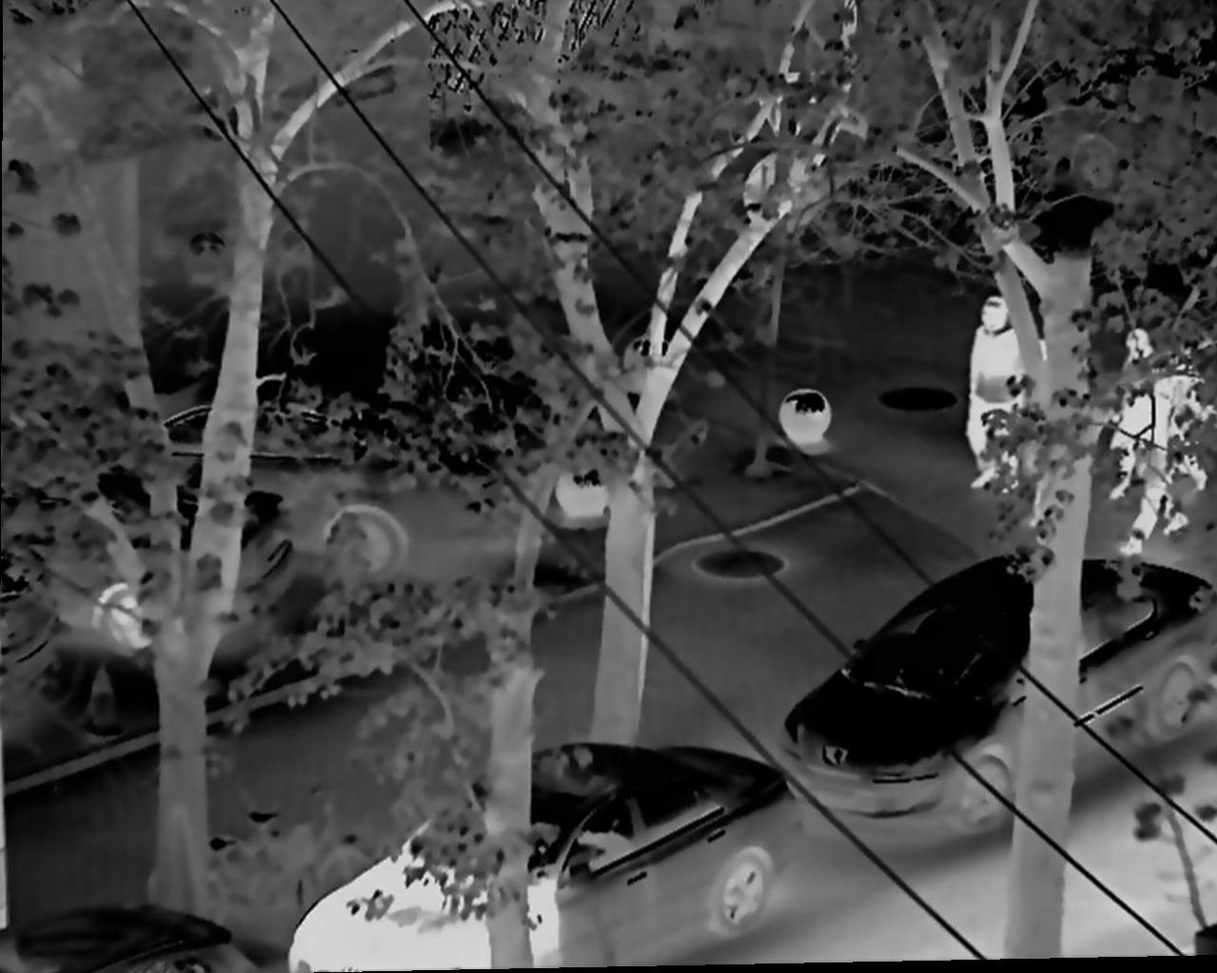person: (951, 297, 1034, 484), (1127, 358, 1195, 556), (1107, 316, 1157, 507)
